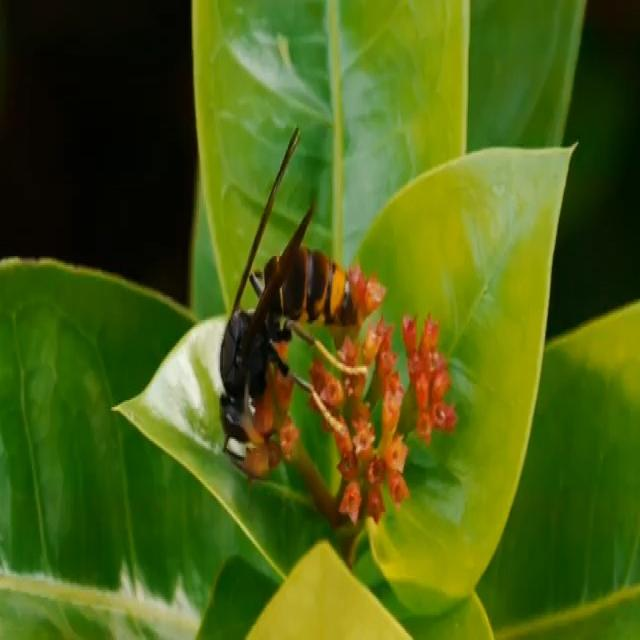Hornets: (218, 124, 368, 478)
